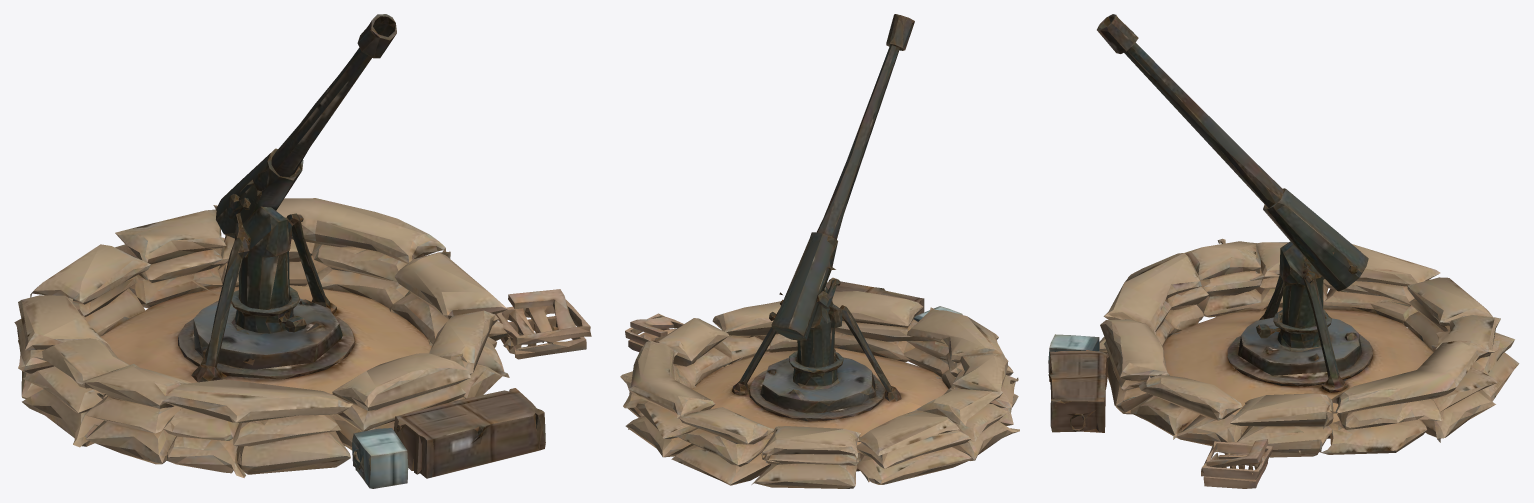
The model's file is mortar_pit.glb.
The picture shows the model from 3 angles, left to right: view 1: azimuth 30°, elevation 25°; view 2: azimuth 150°, elevation 25°; view 3: azimuth 270°, elevation 25°; orthographic projection. The views are drawn at different scales.
Parts seen in each view (by area): view 1: mortar_pit; view 2: mortar_pit; view 3: mortar_pit.
Boxes of the visible parts, left/top/right/bottom form: mortar_pit: left=14, top=14, right=591, bottom=488; mortar_pit: left=620, top=14, right=1019, bottom=488; mortar_pit: left=1048, top=14, right=1519, bottom=488.
Bounding box in the file's own units: 2.4 × 2 × 2.34.
Materials: 1 (1 with a texture image).
